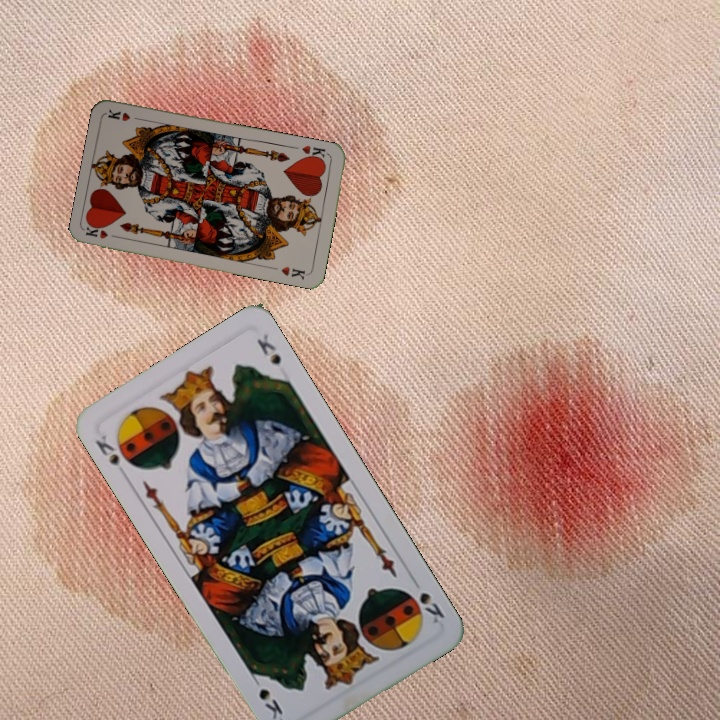HK: (297, 141, 331, 164), (82, 222, 123, 241)
SK: (407, 573, 447, 626), (91, 430, 131, 480)
